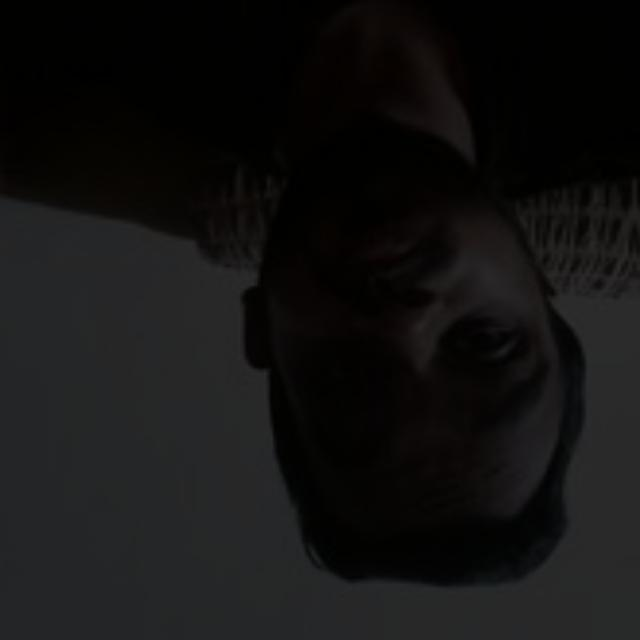Surprised: (260, 157, 624, 586)
